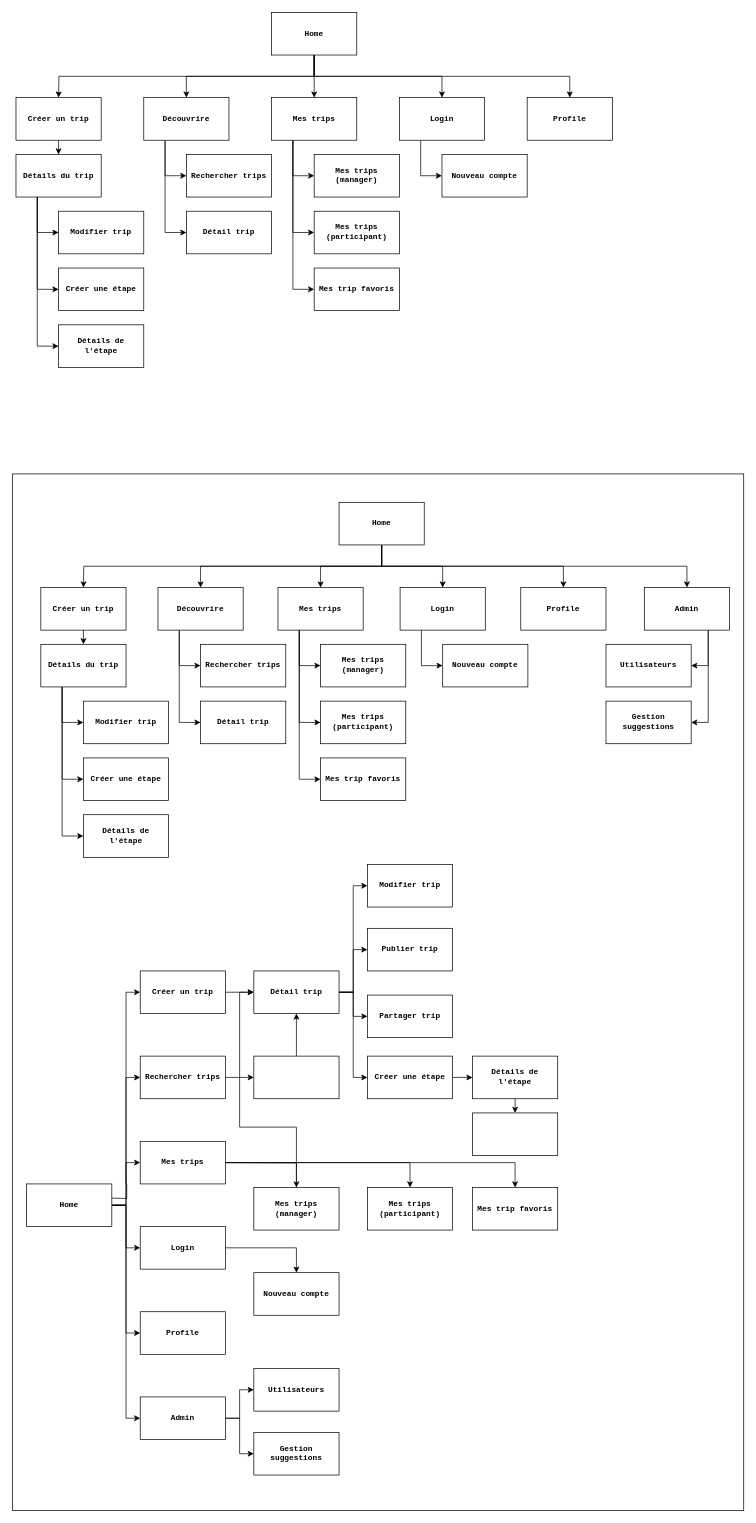
Image size: 756x1523. Some labels were removed from this diagram. Each missing label, with the centre of its shape:
Modifier étape: the point at 515,1134
Résultat recherche: the point at 296,1077
